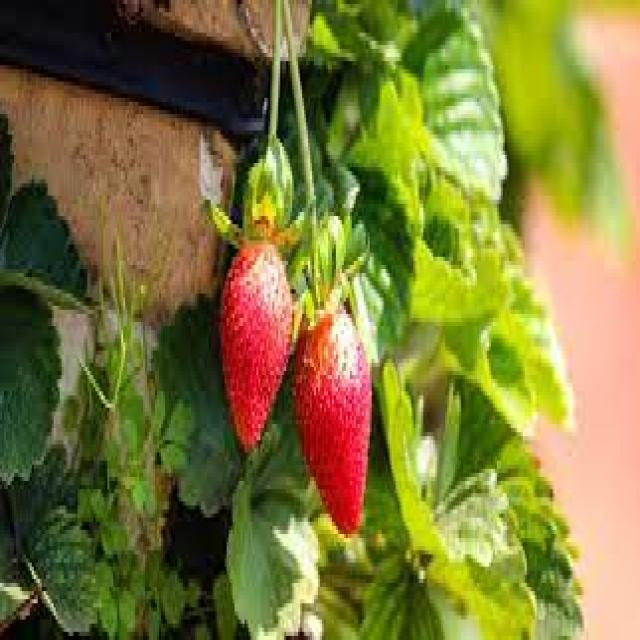strawberry: (212, 207, 292, 460), (291, 300, 375, 536)
